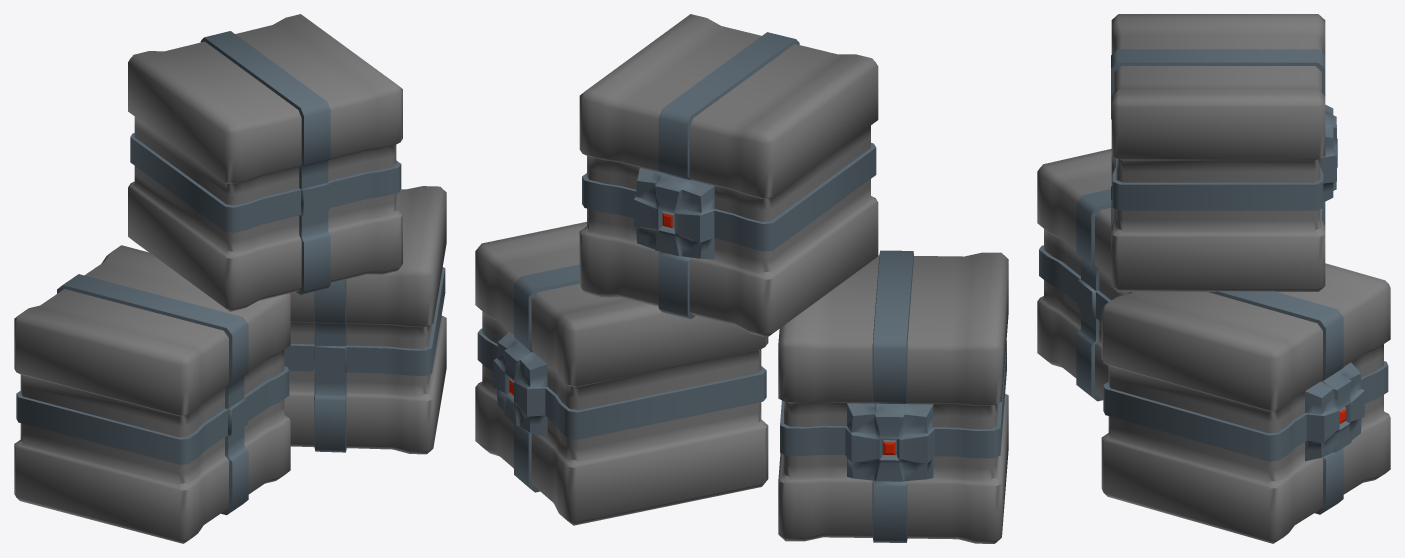
Rendered from metalcratepile1.fbx.
3 views of the same model, side by side, from view 1: azimuth 30°, elevation 25°; view 2: azimuth 150°, elevation 25°; view 3: azimuth 270°, elevation 25° (orthographic). The views are drawn at different scales.
Visible parts, largest first — view 1: MetalCrate.014, MetalCrate.013, MetalCrate.012; view 2: MetalCrate.014, MetalCrate.012, MetalCrate.013; view 3: MetalCrate.012, MetalCrate.014, MetalCrate.013.
Part boxes in pixels (x1,y1,x2,y2): MetalCrate.014: [128, 14, 402, 311]; MetalCrate.013: [14, 245, 290, 543]; MetalCrate.012: [284, 186, 446, 454]; MetalCrate.014: [579, 14, 878, 337]; MetalCrate.012: [475, 222, 768, 525]; MetalCrate.013: [778, 250, 1008, 543]; MetalCrate.012: [1101, 263, 1390, 543]; MetalCrate.014: [1111, 14, 1337, 291]; MetalCrate.013: [1037, 149, 1132, 401].
Bounding box in the file's own units: 717 × 560 × 464.
